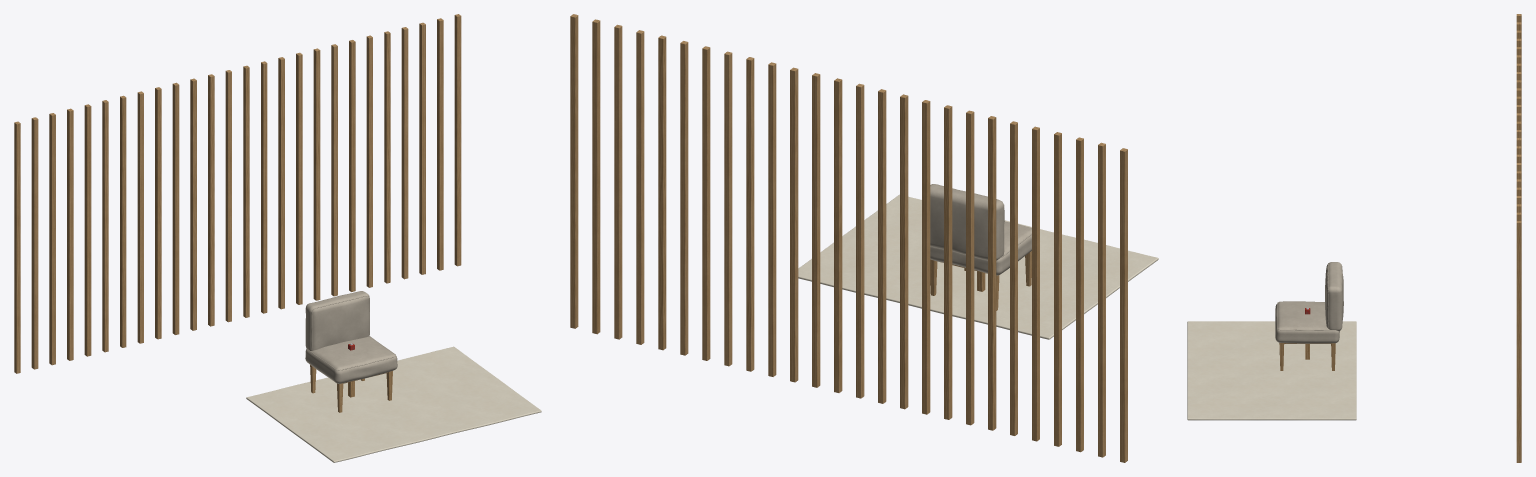
The model's file is addc-extras.glb.
The picture shows the model from 3 angles, left to right: view 1: azimuth 30°, elevation 25°; view 2: azimuth 150°, elevation 25°; view 3: azimuth 270°, elevation 25°; orthographic projection. The views are drawn at different scales.
Visible parts, largest first — view 1: WallSlats, BedroomRug, ReadingChair; view 2: WallSlats, BedroomRug, ReadingChair; view 3: BedroomRug, ReadingChair, WallSlats.
Boxes of the visible parts, x1,y1,x2,y2 form: WallSlats: (14,14,461,373); BedroomRug: (246,346,541,462); ReadingChair: (305,291,397,412); WallSlats: (570,14,1127,462); BedroomRug: (798,194,1158,339); ReadingChair: (930,184,1031,310); BedroomRug: (1187,321,1356,420); ReadingChair: (1275,262,1343,370); WallSlats: (1516,14,1521,462).
Size of the model in its own units: 5.55 by 2.98 by 3.75.
6 materials, 6 textured.
